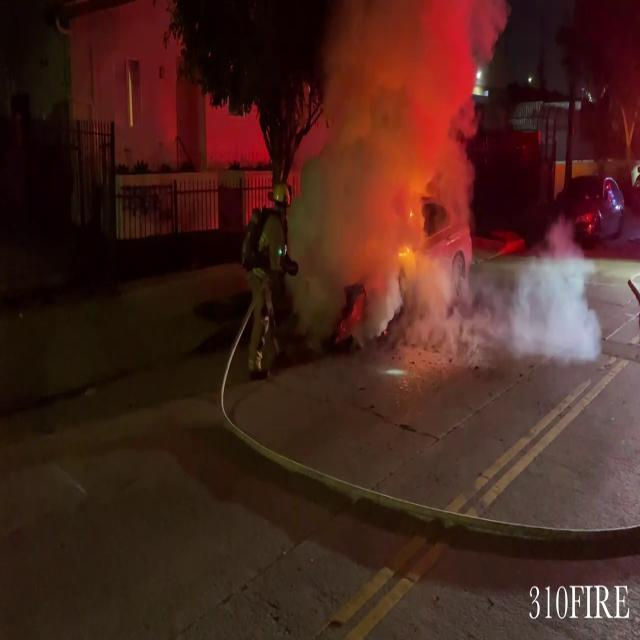Smoke: (284, 0, 508, 327)
